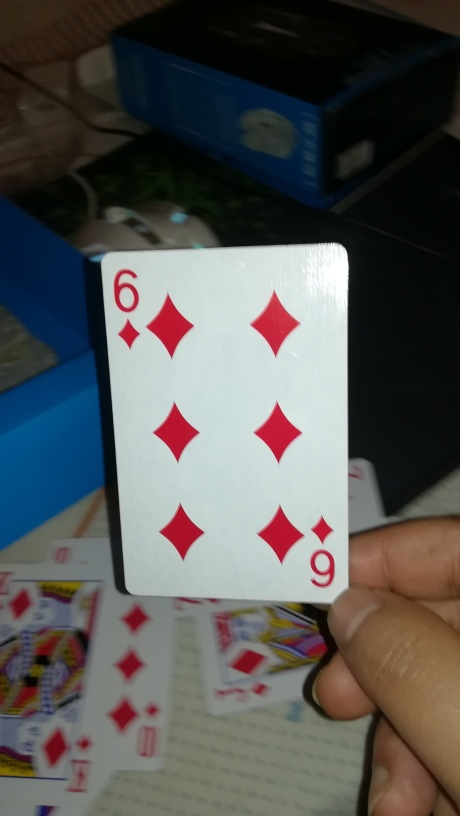fk 6: (99, 239, 352, 608)
